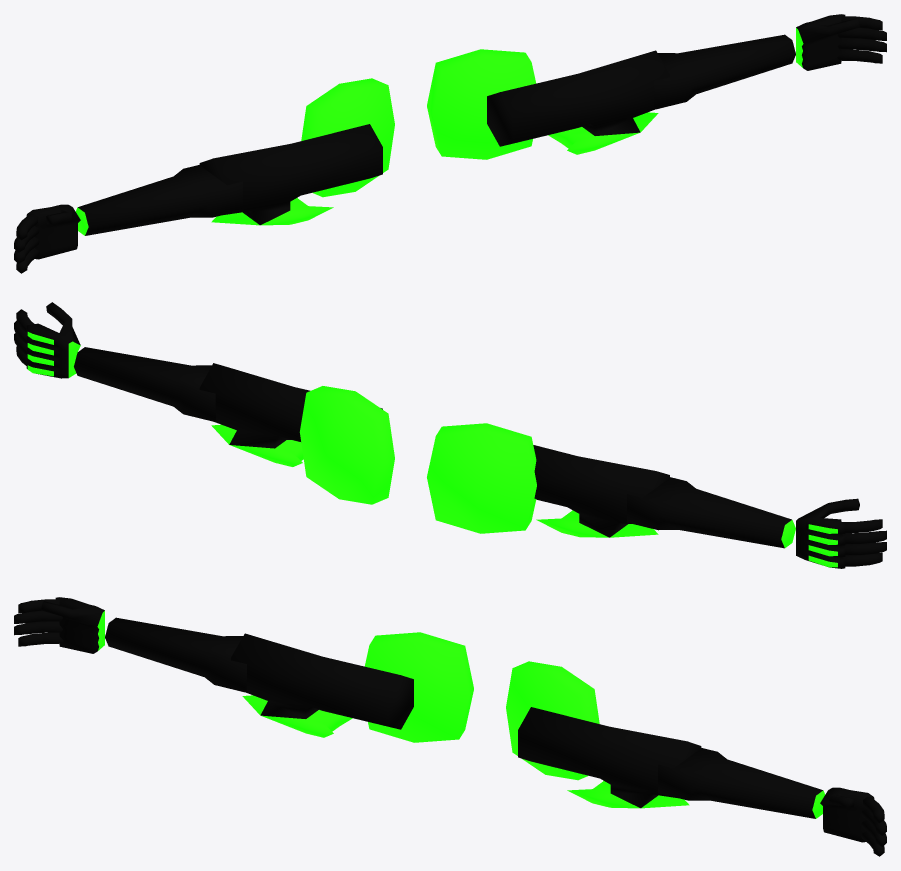
Rendered from character-OLD.glb.
3 views of the same model, one above another, from view 1: azimuth 30°, elevation 25°; view 2: azimuth 150°, elevation 25°; view 3: azimuth 330°, elevation 25° (orthographic).
Visible parts, largest first — view 1: finger; view 2: finger; view 3: finger.
Part boxes in pixels (x1,y1,x2,y2): finger: (14,14,886,273); finger: (14,302,886,568); finger: (14,597,886,856).
Bounding box in the file's own units: 2.43 × 0.27 × 0.262.
